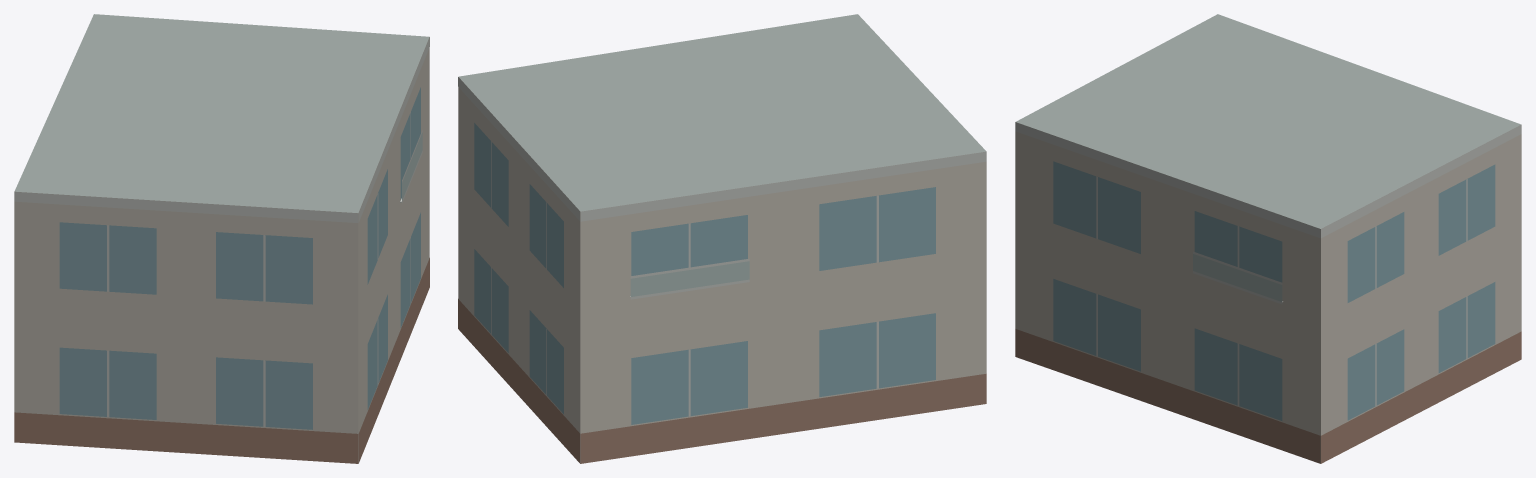
The model's file is survey-upis-32613735.glb.
The picture shows the model from 3 angles, left to right: view 1: azimuth 30°, elevation 25°; view 2: azimuth 150°, elevation 25°; view 3: azimuth 270°, elevation 25°; orthographic projection. The views are drawn at different scales.
Visible parts, largest first — view 1: survey-upis-32613735.tmp; view 2: survey-upis-32613735.tmp; view 3: survey-upis-32613735.tmp.
Boxes of the visible parts, x1,y1,x2,y2 form: survey-upis-32613735.tmp: [14, 14, 429, 463]; survey-upis-32613735.tmp: [458, 14, 986, 463]; survey-upis-32613735.tmp: [1015, 14, 1521, 463].
Size of the model in its own units: 11.98 by 6.1 by 11.92.
